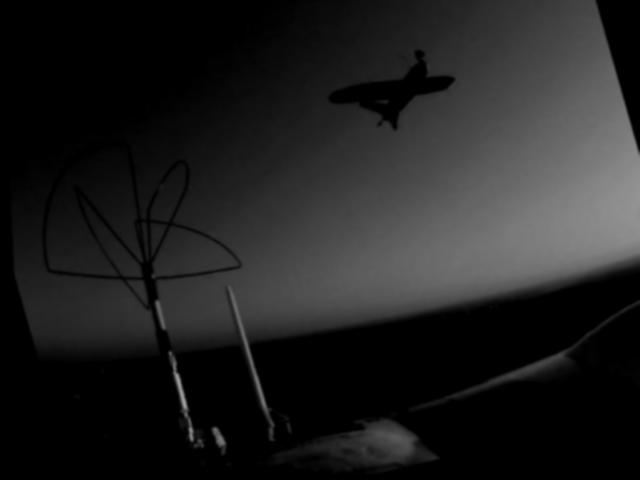hedef: (305, 32, 475, 150)
